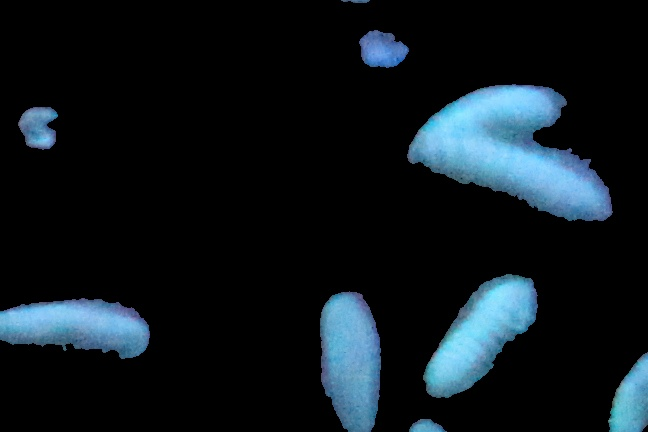larvae: (425, 133, 604, 224), (425, 279, 538, 395), (407, 86, 555, 162), (316, 288, 385, 432), (1, 300, 148, 360), (602, 344, 648, 432), (236, 1, 377, 2)
